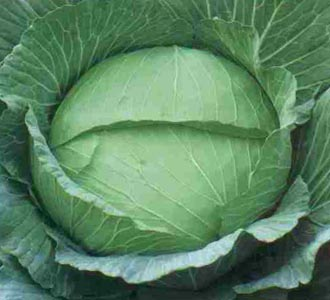cabbage: (52, 42, 282, 251)
